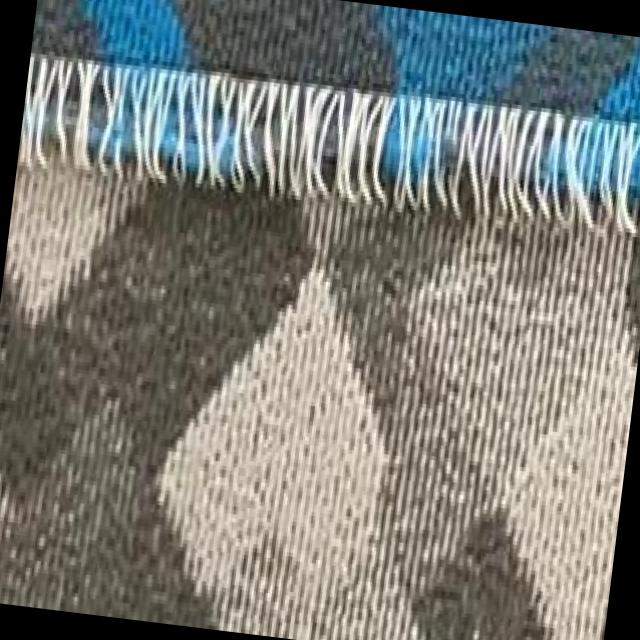gray stitch: (16, 39, 640, 252)
